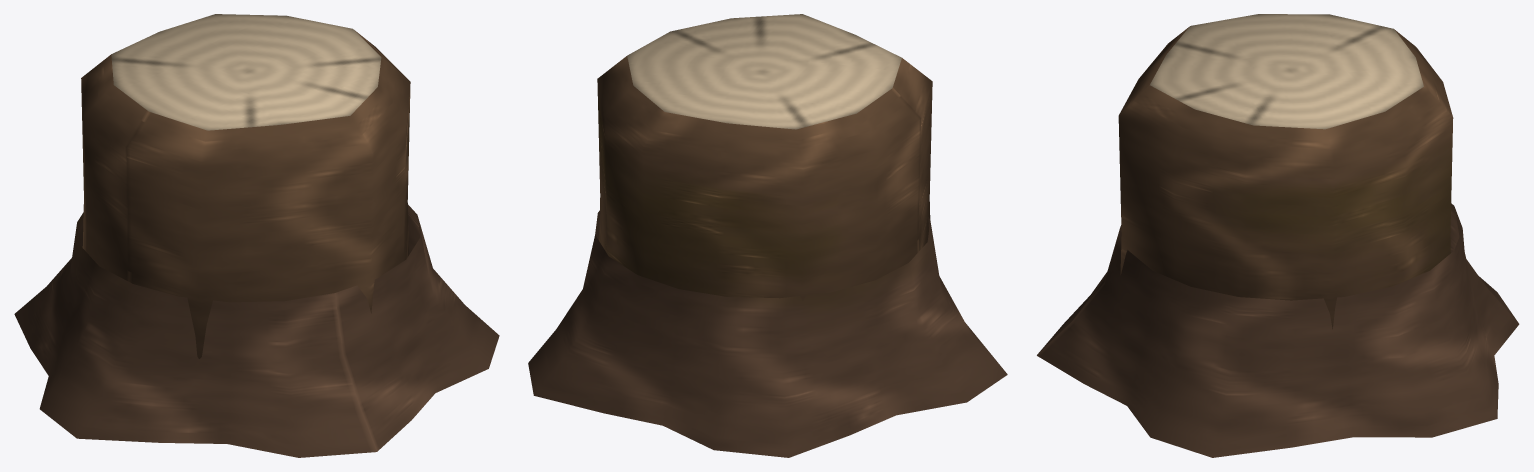
Rendered from stump-seat.glb.
3 views of the same model, side by side, from view 1: azimuth 30°, elevation 25°; view 2: azimuth 150°, elevation 25°; view 3: azimuth 270°, elevation 25° (orthographic). The views are drawn at different scales.
Parts seen in each view (by area): view 1: stump-seat; view 2: stump-seat; view 3: stump-seat.
Part boxes in pixels (x1=…): stump-seat: x1=14, y1=14, x2=499, y2=457; stump-seat: x1=528, y1=14, x2=1007, y2=457; stump-seat: x1=1037, y1=14, x2=1519, y2=457.
Bounding box in the file's own units: 0.7241 × 0.48 × 0.7215.
1 material, 1 textured.
